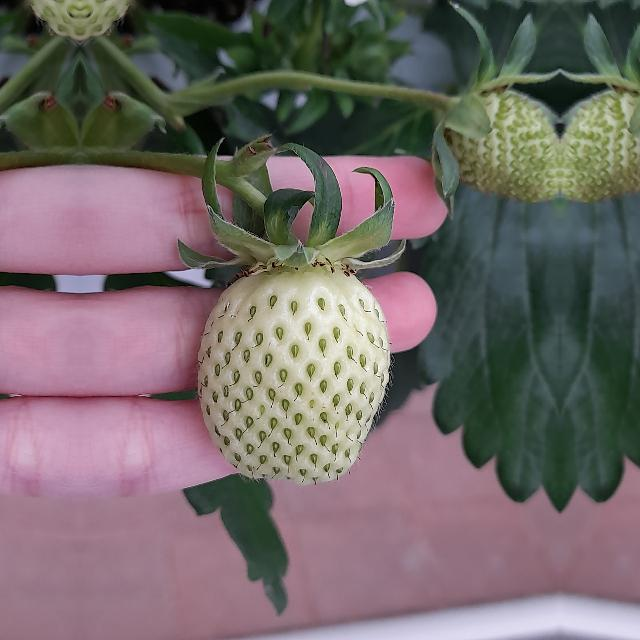Health_25: (198, 266, 390, 482), (447, 85, 559, 209), (561, 85, 640, 209)
